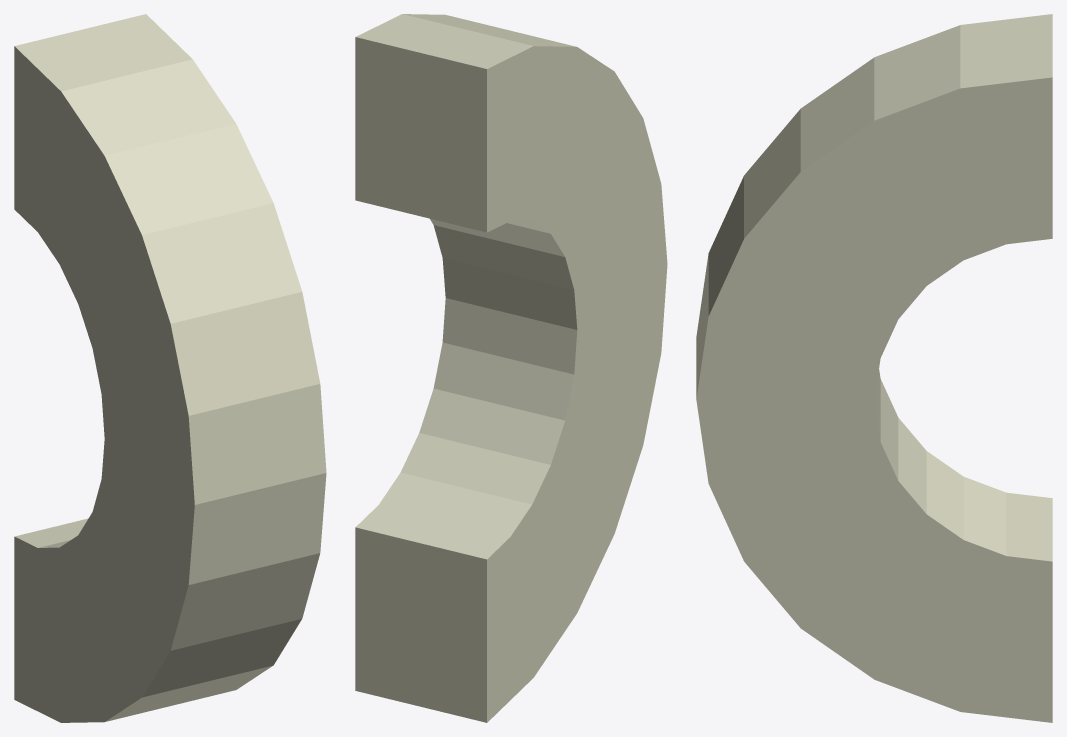
Rendered from section_300.obj.
3 renders of one model, left to right at view 1: azimuth 30°, elevation 25°; view 2: azimuth 150°, elevation 25°; view 3: azimuth 270°, elevation 25°, orthographic.
Bounding box in the file's own units: 1.69 × 8 × 4.
